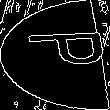P_E: (5, 34, 105, 76)
